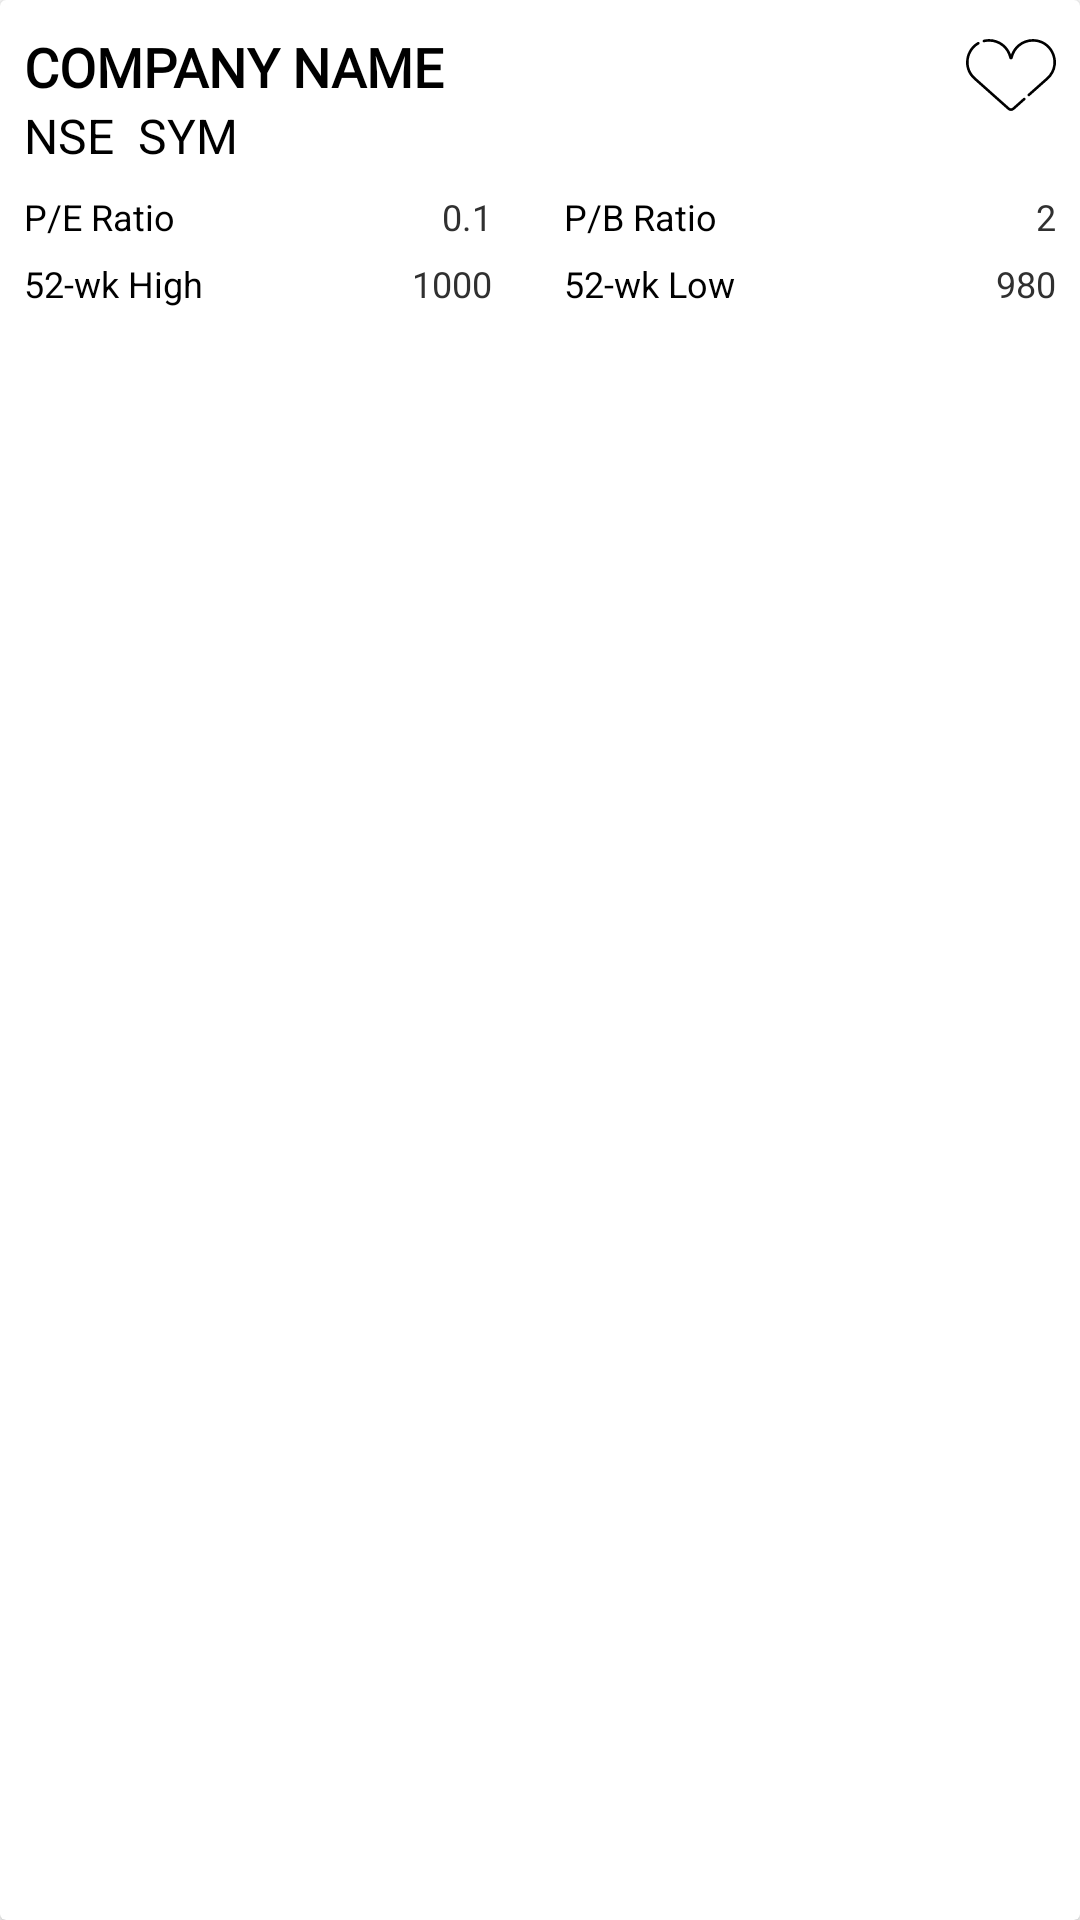

Point at icon controls on the screen. Image size 1080x1920, points as (x,y).
favourite hollow: (1011,75)
